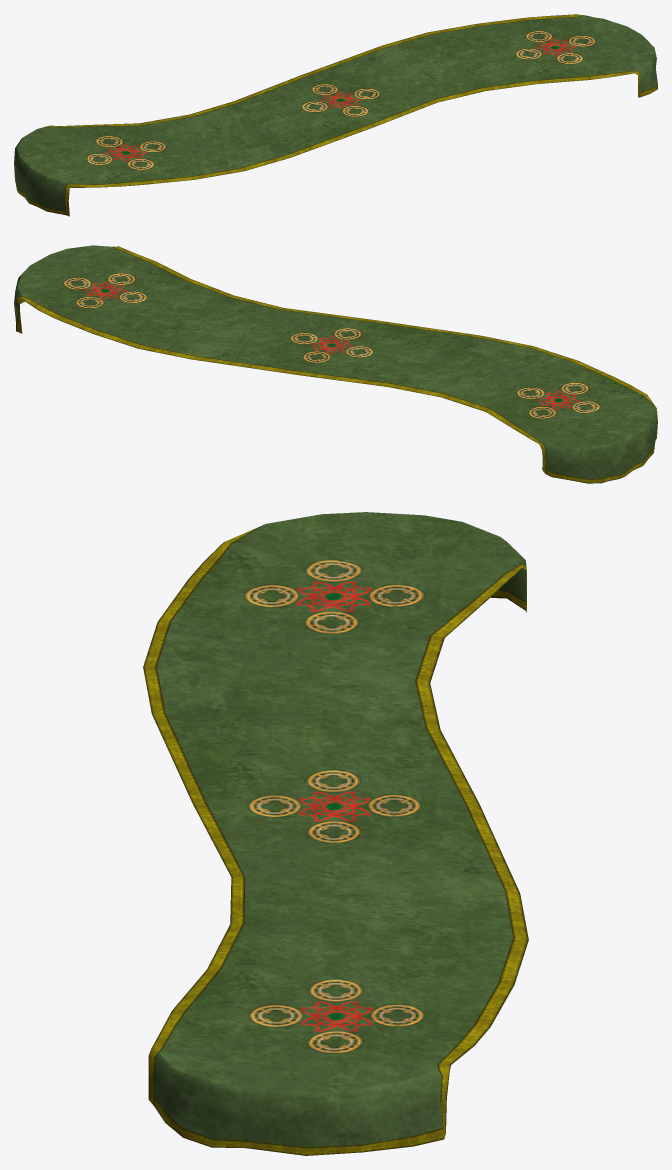
File: M_Home_Garden_Table05.fbx
3 views of the same model, one above another, from view 1: azimuth 30°, elevation 25°; view 2: azimuth 150°, elevation 25°; view 3: azimuth 270°, elevation 25° (orthographic). The views are drawn at different scales.
Parts seen in each view (by area): view 1: M_Home_Garden_Table05; view 2: M_Home_Garden_Table05; view 3: M_Home_Garden_Table05.
Part boxes in pixels (x1=…): M_Home_Garden_Table05: x1=14, y1=14, x2=657, y2=216; M_Home_Garden_Table05: x1=14, y1=245, x2=657, y2=483; M_Home_Garden_Table05: x1=143, y1=512, x2=528, y2=1155.
Bounding box in the file's own units: 603 × 34.4 × 168.
